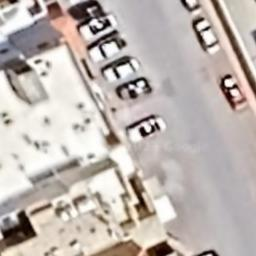SUV: (82, 35, 132, 63)
sedan: (213, 68, 252, 114), (122, 113, 174, 146), (188, 16, 227, 58), (96, 58, 147, 82), (73, 15, 120, 39), (112, 80, 156, 104), (72, 0, 114, 18), (176, 0, 210, 14)
